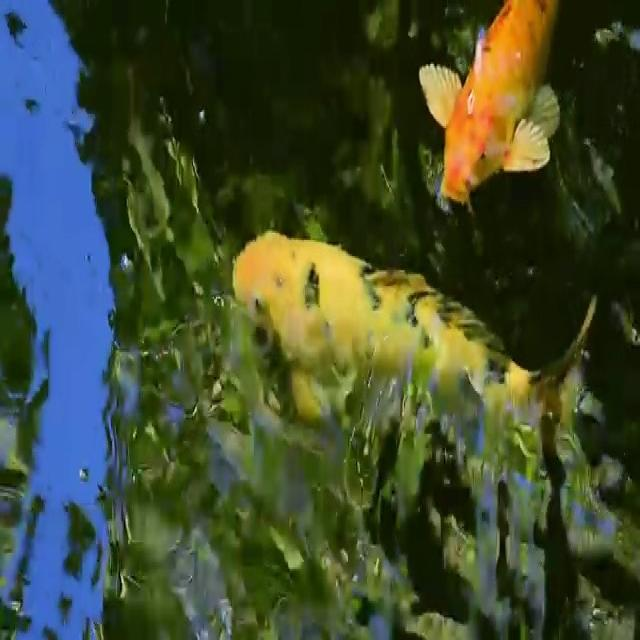fish: (222, 216, 605, 530), (412, 0, 576, 228)
